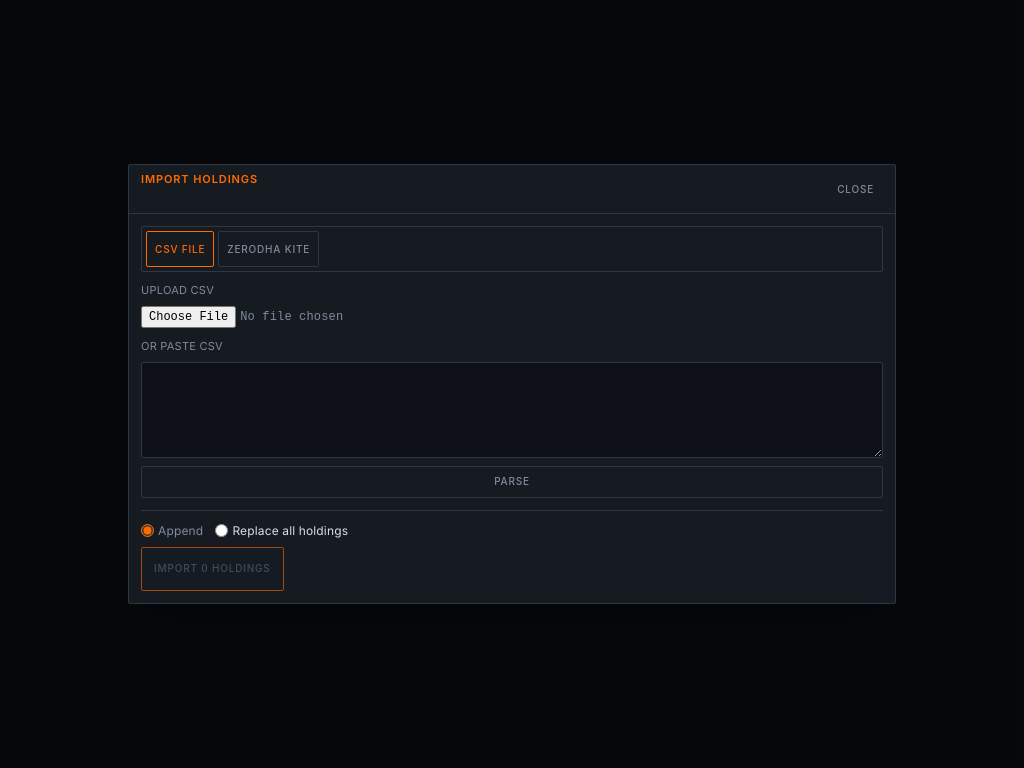
Scenario: PortfolioImportDrawer › Kite tab shows fetch button
// Switch to Kite tab
Click the tab "Zerodha Kite": click(269, 249) [218,231,319,267]
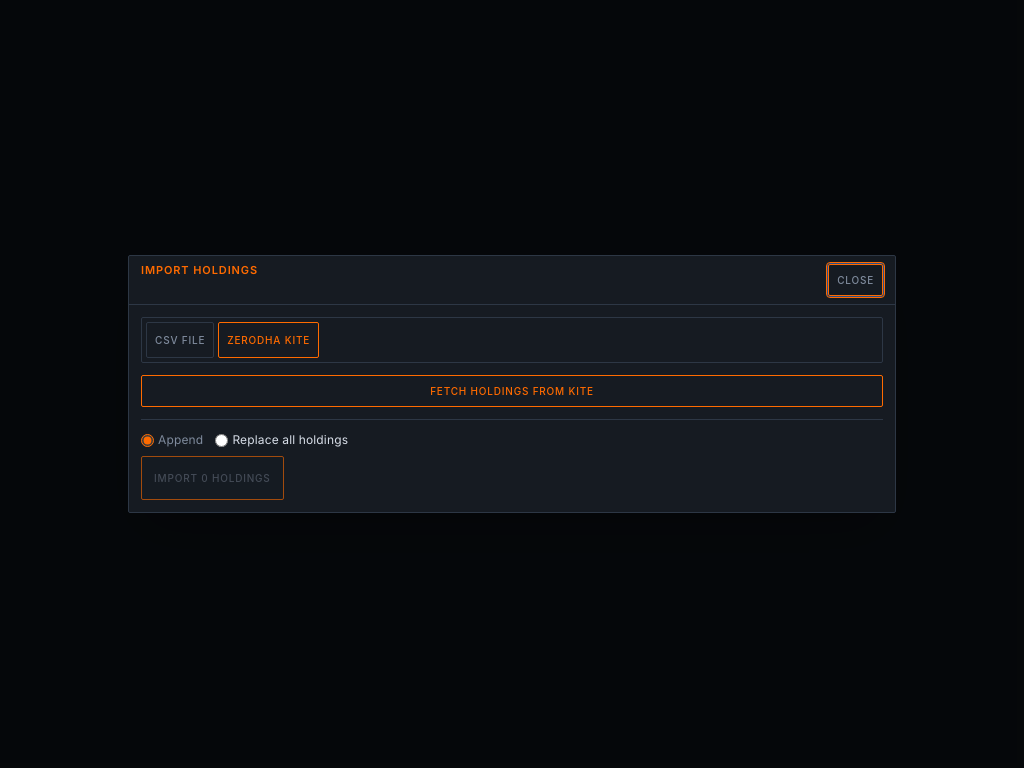
Now the text "Fetch holdings from Kite" is shown, box [430,386,594,396]
